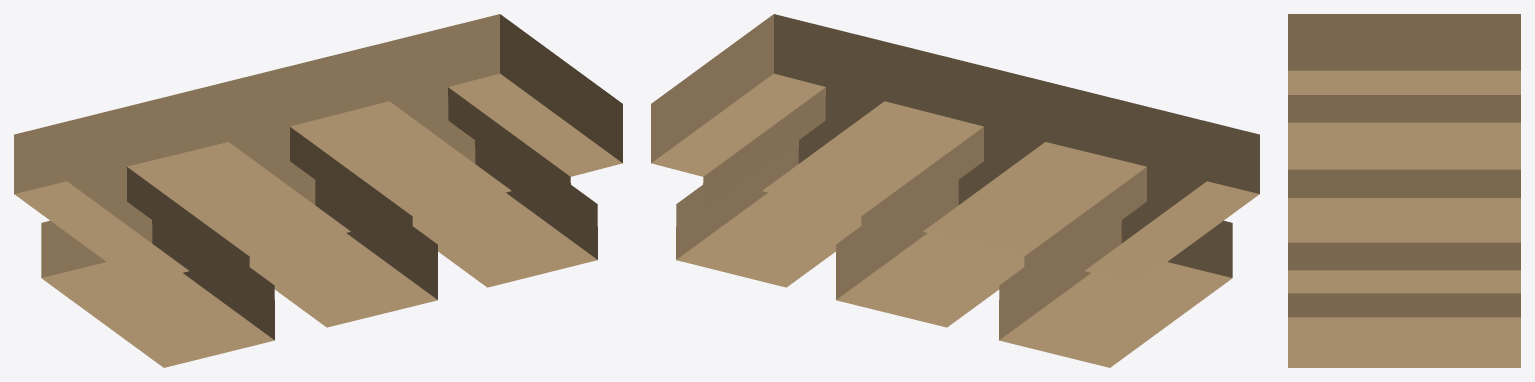
3 views of the same model, side by side, from view 1: azimuth 30°, elevation 25°; view 2: azimuth 150°, elevation 25°; view 3: azimuth 270°, elevation 25° (orthographic). The views are drawn at different scales.
Visible parts, largest first — view 1: 0_3_2_0_2_0_2_3; view 2: 0_3_2_0_2_0_2_3; view 3: 0_3_2_0_2_0_2_3.
Part boxes in pixels (box(x1,y1,x2,y2)): 0_3_2_0_2_0_2_3: box(14, 14, 622, 367); 0_3_2_0_2_0_2_3: box(651, 14, 1259, 367); 0_3_2_0_2_0_2_3: box(1288, 14, 1520, 367).
Bounding box in the file's own units: 61.73 × 18.47 × 27.
